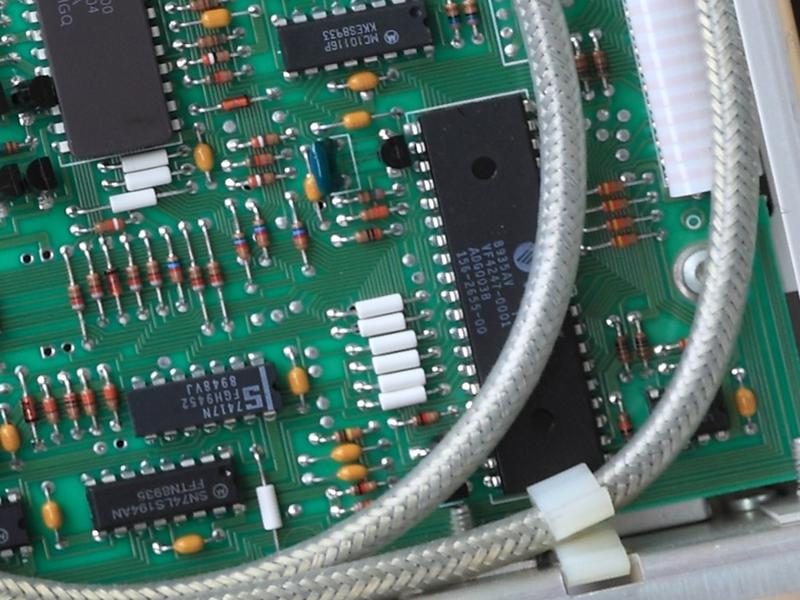Diode: (212, 91, 260, 113), (101, 260, 126, 301), (18, 391, 40, 428)
Resistor: (588, 40, 615, 87), (569, 42, 594, 92), (241, 128, 289, 153), (402, 406, 448, 432), (602, 228, 651, 252), (87, 213, 132, 239), (354, 201, 399, 227), (228, 223, 256, 264), (347, 184, 393, 208), (286, 213, 313, 253), (64, 274, 89, 317), (162, 248, 187, 291), (240, 148, 283, 173), (590, 174, 631, 200), (184, 255, 208, 299), (99, 377, 126, 416), (82, 265, 107, 307), (249, 215, 276, 253), (121, 257, 146, 298), (58, 386, 84, 425), (244, 167, 283, 193), (189, 31, 235, 53), (594, 192, 638, 215), (327, 423, 371, 446), (342, 478, 386, 501), (76, 383, 101, 423), (141, 253, 166, 292), (204, 254, 228, 294), (349, 223, 387, 248), (195, 47, 239, 68), (632, 326, 656, 364), (610, 329, 634, 366), (36, 394, 62, 428), (599, 212, 639, 234), (615, 403, 635, 446), (439, 1, 465, 34), (198, 67, 240, 87), (458, 1, 484, 32), (182, 1, 227, 17), (1, 135, 25, 158)
